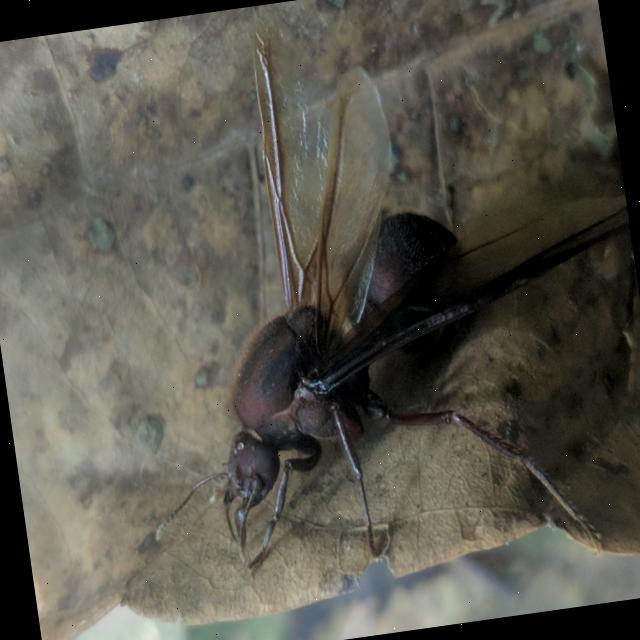Alive-Female-Alate: (86, 0, 640, 614)
